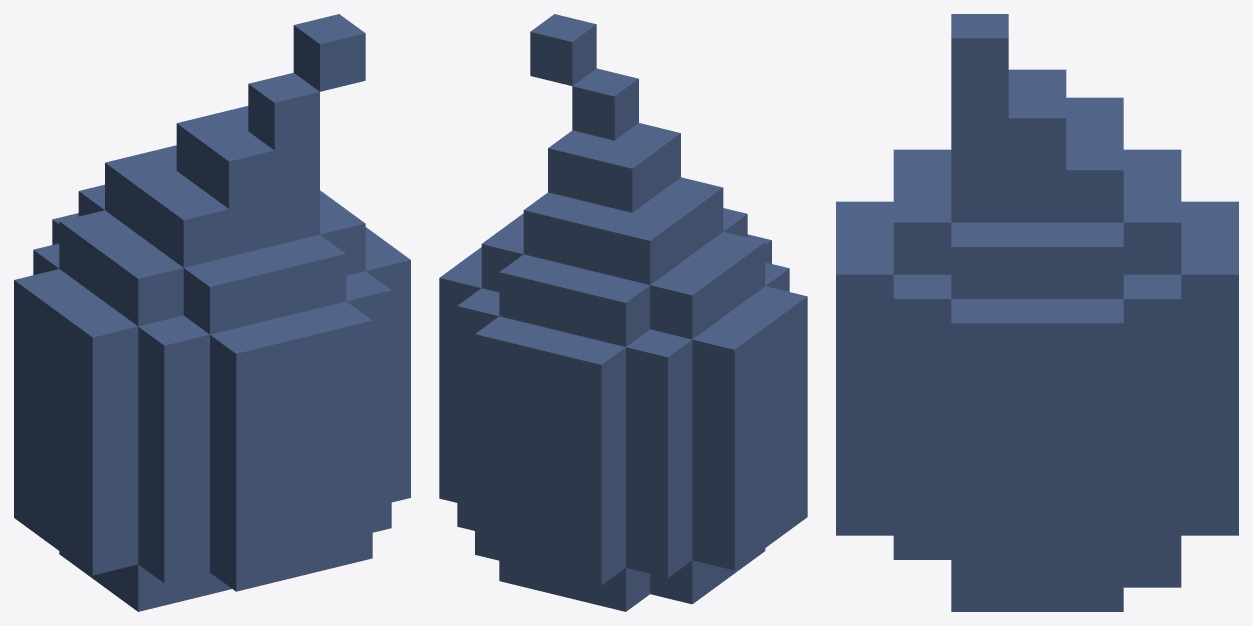
Rendered from TESTOWANIE_VOXELA-4.obj.
The picture shows the model from 3 angles, left to right: view 1: azimuth 30°, elevation 25°; view 2: azimuth 150°, elevation 25°; view 3: azimuth 270°, elevation 25°; orthographic projection. The views are drawn at different scales.
Bounding box in the file's own units: 0.7 × 1.1 × 0.7.
1 material, 1 textured.
